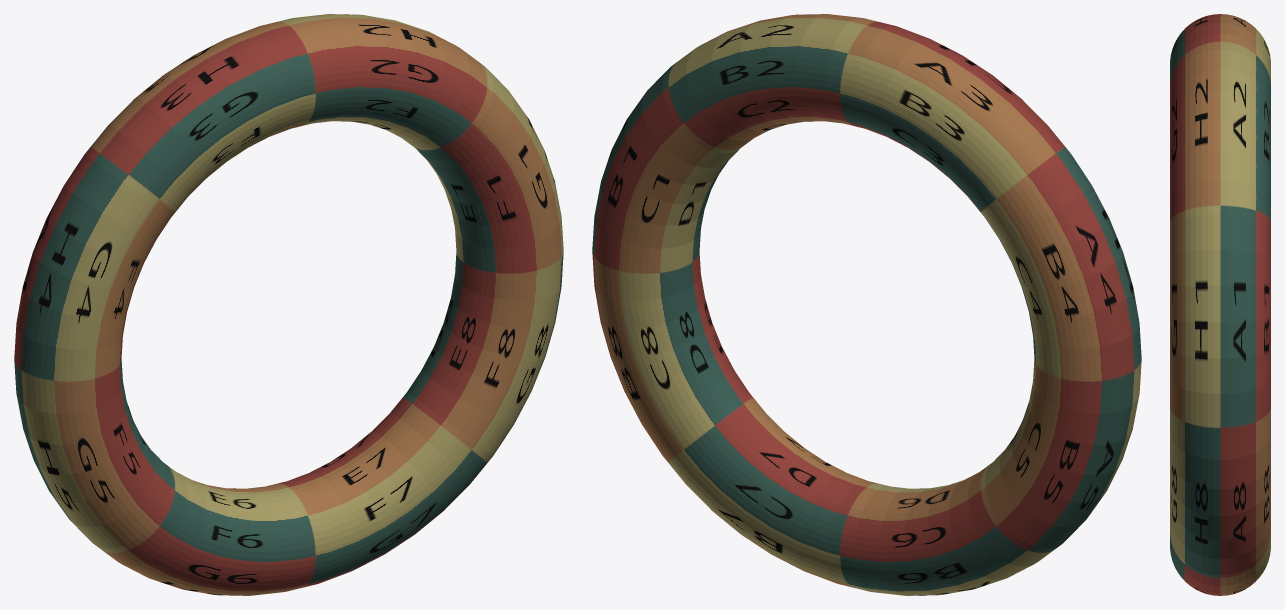
The model's file is texture_torus_R24_r13.glb.
3 renders of one model, left to right at view 1: azimuth 30°, elevation 25°; view 2: azimuth 150°, elevation 25°; view 3: azimuth 270°, elevation 25°, orthographic. The views are drawn at different scales.
Visible parts, largest first — view 1: world; view 2: world; view 3: world.
Part boxes in pixels (box(x1,y1,x2,y2)): world: box(14, 14, 563, 595); world: box(592, 14, 1141, 595); world: box(1170, 14, 1270, 595).
Size of the model in its own units: 31.47 by 31.4 by 5.46.
Materials: 1 (1 with a texture image).
